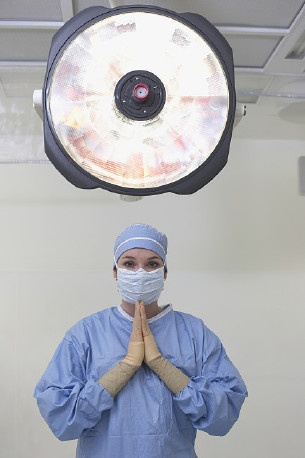Mask: (116, 250, 173, 306)
